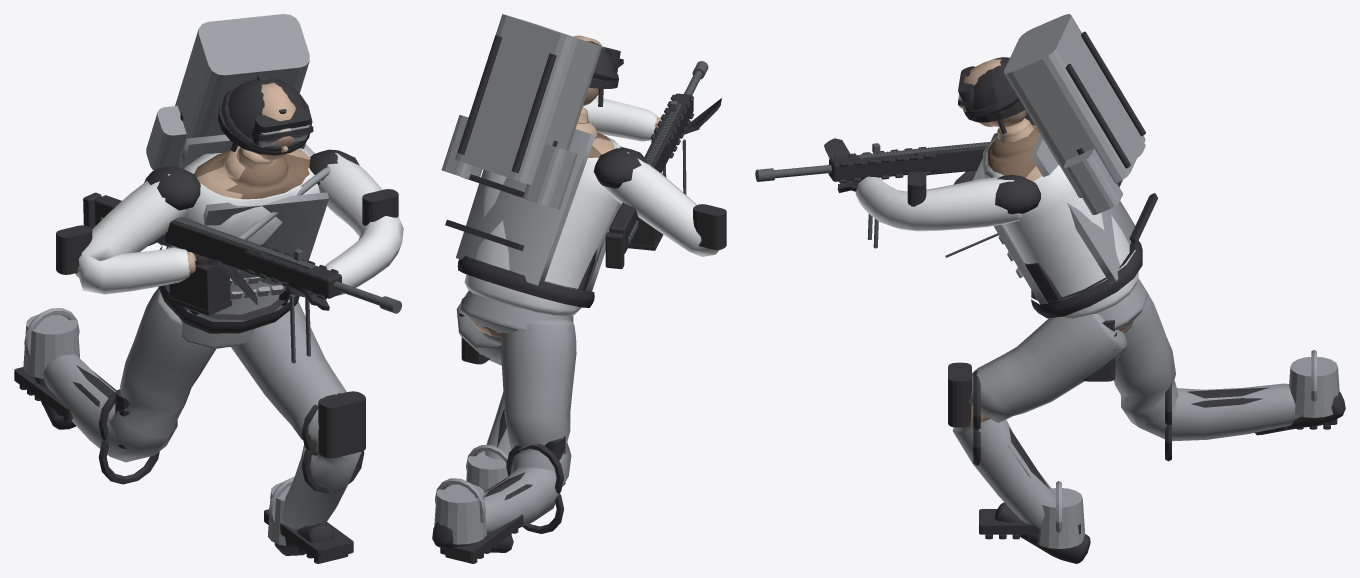
File: arctic-station-fps-kit-defender-heavy-advancing-eb97d1a1__28520.glb
3 renders of one model, left to right at view 1: azimuth 30°, elevation 25°; view 2: azimuth 150°, elevation 25°; view 3: azimuth 270°, elevation 25°, orthographic. The views are drawn at different scales.
Parts seen in each view (by area): view 1: defender-heavy-advancing; view 2: defender-heavy-advancing; view 3: defender-heavy-advancing.
Part boxes in pixels (<box>): defender-heavy-advancing: <box>14,14,403,563</box>; defender-heavy-advancing: <box>432,14,726,563</box>; defender-heavy-advancing: <box>755,14,1345,563</box>.
Bounding box in the file's own units: 0.8769 × 1.65 × 1.73.
